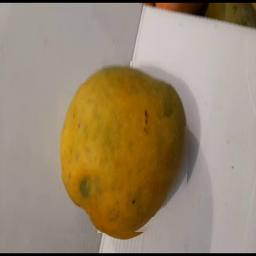Mango Fresh: (58, 62, 191, 235)
